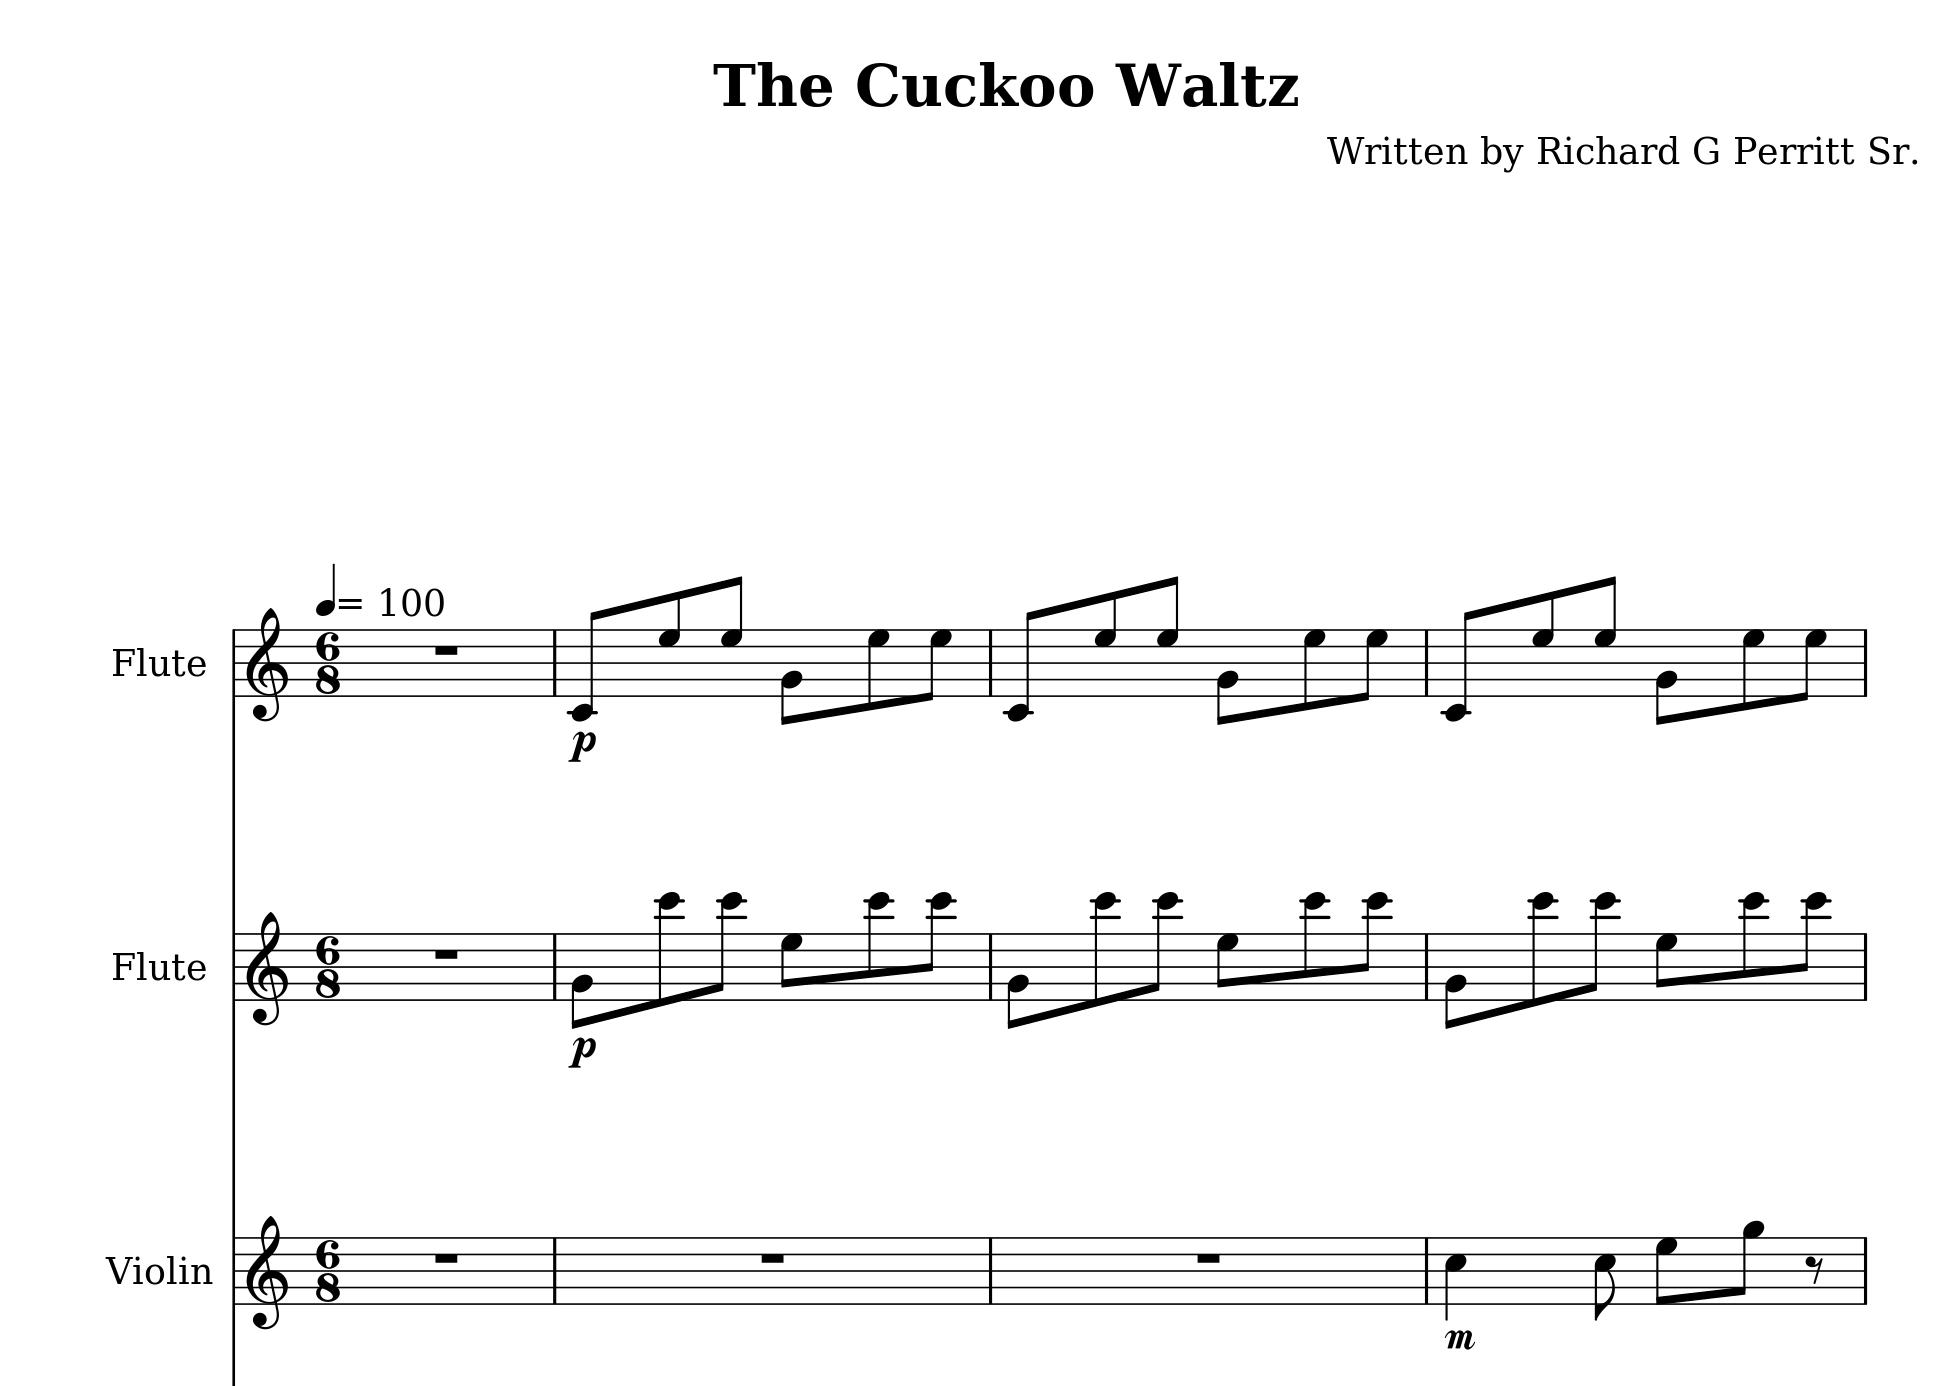0: (399, 583, 421, 619), (423, 585, 445, 619)
1: (376, 583, 397, 619)
4_5: (1444, 1234, 1468, 1321)
6: (313, 931, 342, 966), (313, 1234, 340, 1270), (313, 628, 342, 661)
8: (313, 964, 342, 1000), (313, 1267, 342, 1303), (313, 661, 342, 696)
8_-2: (1002, 607, 1042, 721), (1440, 607, 1480, 721), (567, 607, 606, 721)
8_12: (1581, 889, 1620, 1002), (918, 889, 955, 1003), (708, 889, 745, 1002), (1354, 889, 1392, 1002), (1794, 889, 1830, 1003), (1146, 889, 1182, 1002), (655, 889, 684, 1009), (864, 889, 894, 1003), (1092, 889, 1120, 1008), (1740, 889, 1768, 1003), (1530, 889, 1557, 1006), (1302, 889, 1329, 1003)
8_2: (777, 625, 804, 727), (1213, 625, 1240, 727), (1653, 625, 1680, 727), (568, 930, 595, 1029), (1005, 930, 1030, 1030), (1443, 930, 1468, 1030)
8_5: (1593, 1234, 1620, 1321)
8_7: (1155, 573, 1182, 697), (720, 573, 745, 697), (1593, 574, 1618, 697), (1530, 588, 1557, 697), (657, 586, 682, 697), (1093, 586, 1119, 697), (1794, 627, 1828, 703), (919, 627, 952, 703), (1356, 627, 1389, 703), (1740, 625, 1767, 712), (864, 627, 891, 712), (1300, 627, 1327, 712), (778, 931, 805, 1003), (1215, 931, 1242, 1002), (1654, 1234, 1680, 1306), (1654, 931, 1680, 1002)
8_9: (1731, 1218, 1764, 1306)
Fl: (108, 642, 150, 682), (108, 946, 150, 987)
Gclef: (243, 907, 291, 1027), (243, 604, 289, 723), (244, 1213, 289, 1330)
Rests1: (757, 1248, 789, 1267), (1194, 1248, 1225, 1267), (430, 640, 462, 658), (430, 1248, 462, 1266), (430, 945, 462, 961)
Rests8: (1803, 1252, 1827, 1285)
Single_barline: (1857, 1237, 1875, 1303), (226, 627, 243, 697), (226, 931, 243, 1000), (546, 931, 562, 1000), (982, 931, 999, 1000), (1419, 931, 1435, 1000), (1419, 628, 1435, 696), (1857, 931, 1873, 999), (546, 1236, 562, 1303), (982, 1237, 999, 1303), (1419, 1237, 1435, 1303), (984, 628, 999, 696), (1858, 628, 1873, 696), (226, 1236, 241, 1303), (547, 628, 562, 694)
Speed4: (315, 559, 364, 616)
TimeSig: (313, 931, 343, 1002), (313, 628, 343, 697), (313, 1236, 343, 1305)
m: (1441, 1326, 1479, 1353)
p: (564, 1033, 601, 1072), (564, 727, 598, 766)
